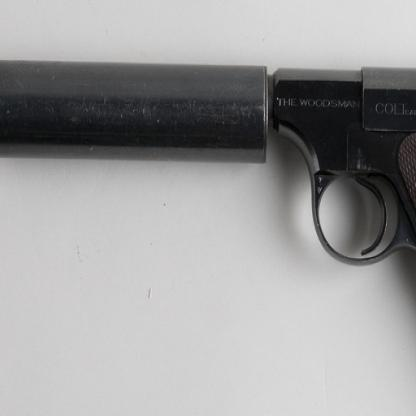gun: (0, 44, 415, 415)
